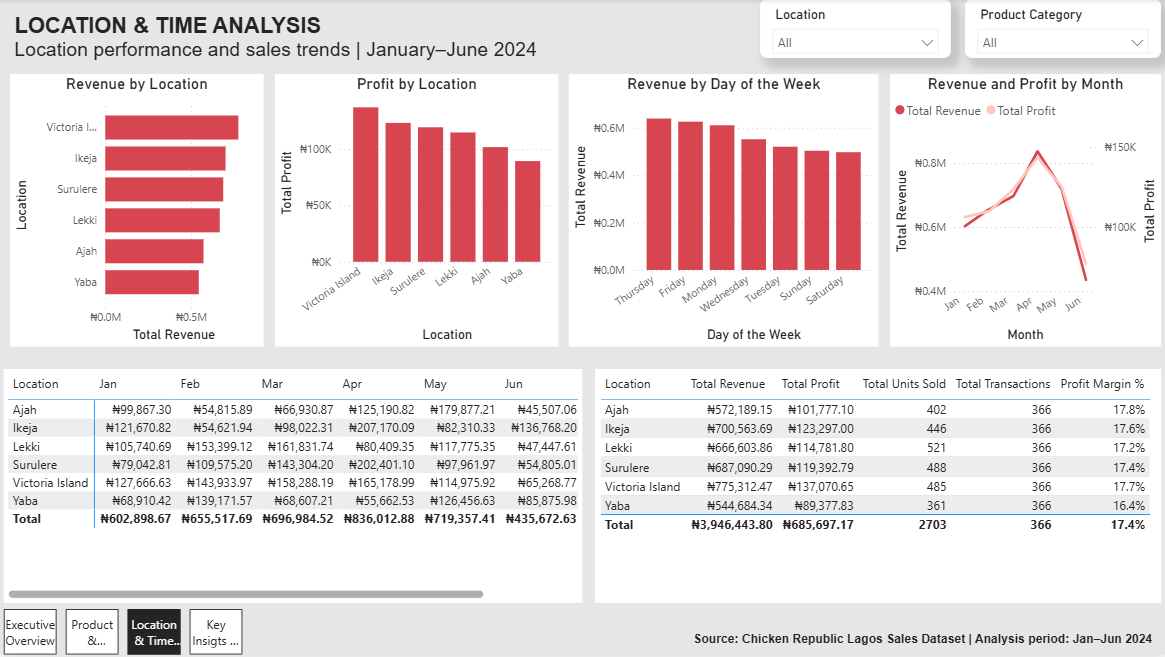

The dashboard page shown, as its layout file describes it:
{"tool":"powerbi","page":{"name":"Location & Time Analysis","canvas":[1280,720],"ordinal":2},"visuals":[{"type":"clusteredBarChart","title":"Revenue by Location","fields":{"Category":["SalesData.Location"],"Y":["SalesData.Total Revenue"]},"box":[11,82.3,278.6,299.1],"z":0},{"type":"clusteredColumnChart","title":"Profit by Location","fields":{"Category":["SalesData.Location"],"Y":["SalesData.Total Profit"]},"box":[301.9,82.3,311.5,299.1],"z":1000},{"type":"lineChart","title":"Revenue and Profit by Month","fields":{"Category":["SalesData.Month"],"Y":["SalesData.Total Revenue"],"Y2":["SalesData.Total Profit"]},"box":[977,82.3,297.8,299.1],"z":2000},{"type":"clusteredColumnChart","title":"Revenue by Day of the Week","fields":{"Category":["SalesData.Day of the Week"],"Y":["SalesData.Total Revenue"]},"box":[624.4,82.3,340.3,299.1],"z":3000},{"type":"tableEx","fields":{"Values":["SalesData.Location","SalesData.Total Revenue","SalesData.Total Profit","SalesData.Total Units Sold","SalesData.Total Transactions","SalesData.Profit Margin %"]},"box":[653.2,406.7,621.6,256.6],"z":4000},{"type":"pivotTable","fields":{"Rows":["SalesData.Location"],"Columns":["SalesData.Month"],"Values":["SalesData.Total Revenue"]},"box":[4.1,406.7,635.3,256.6],"z":5000},{"type":"textbox","box":[11,11,592.8,61.7],"z":6000},{"type":"slicer","fields":{"Values":["SalesData.Location"]},"box":[834.3,0,209.9,64.5],"z":7000},{"type":"slicer","fields":{"Values":["SalesData.Product Category"]},"box":[1059.4,0,215.4,64.5],"z":8000},{"type":"pageNavigator","box":[4.1,669.6,262.1,50.8],"z":9000},{"type":"textbox","box":[756.1,687.5,524.2,32.9],"z":10000}]}

Visuals, with their boxes in screenshot pixels (x1, y1, x2, y2), scaled from the page's 1280x720 canvas onto the 1165x657 screenshot:
"Revenue by Location" clusteredBarChart: x1=10 y1=75 x2=264 y2=348
"Profit by Location" clusteredColumnChart: x1=275 y1=75 x2=558 y2=348
"Revenue and Profit by Month" lineChart: x1=889 y1=75 x2=1160 y2=348
"Revenue by Day of the Week" clusteredColumnChart: x1=568 y1=75 x2=878 y2=348
tableEx - SalesData.Location x SalesData.Total Revenue: x1=595 y1=371 x2=1160 y2=605
pivotTable - SalesData.Location x SalesData.Month: x1=4 y1=371 x2=582 y2=605
textbox: x1=10 y1=10 x2=550 y2=66
slicer - SalesData.Location: x1=759 y1=0 x2=950 y2=59
slicer - SalesData.Product Category: x1=964 y1=0 x2=1160 y2=59
pageNavigator: x1=4 y1=611 x2=242 y2=656
textbox: x1=688 y1=627 x2=1164 y2=656
